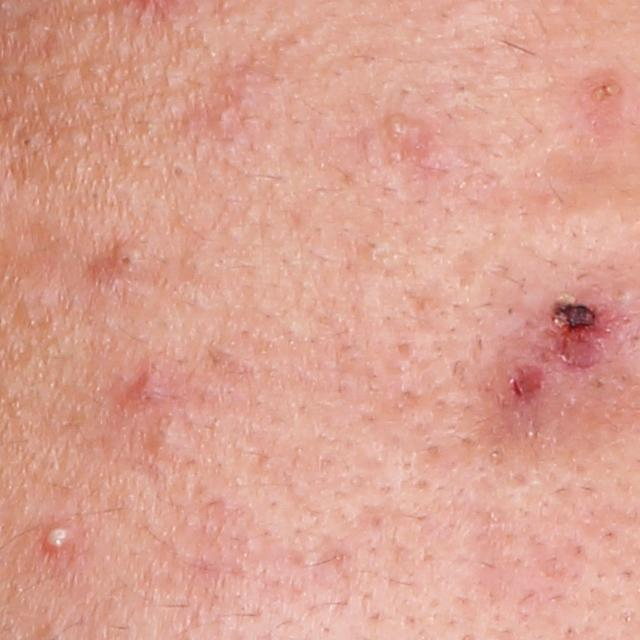comedo: (205, 101, 241, 136), (377, 110, 411, 144), (108, 243, 142, 273), (154, 420, 185, 452), (16, 128, 41, 154), (169, 160, 191, 186)
papule: (529, 276, 631, 383), (493, 352, 555, 415), (575, 73, 629, 125), (126, 370, 175, 412)
pustule: (26, 514, 80, 564)
